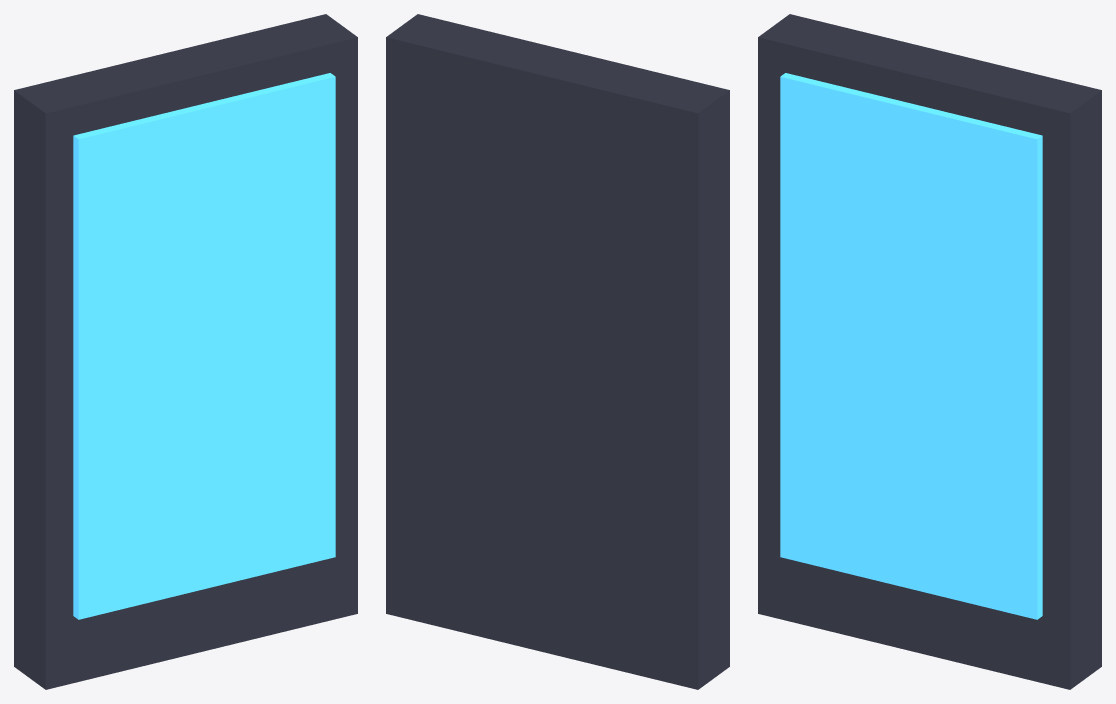
The model's file is phone.glb.
The picture shows the model from 3 angles, left to right: view 1: azimuth 30°, elevation 25°; view 2: azimuth 150°, elevation 25°; view 3: azimuth 330°, elevation 25°; orthographic projection.
Parts seen in each view (by area): view 1: phone; view 2: phone; view 3: phone.
Part boxes in pixels (x1,y1,x2,y2): phone: (14,14,357,689); phone: (386,14,729,689); phone: (758,14,1101,689).
Size of the model in its own units: 0.34 by 0.6 by 0.07.
